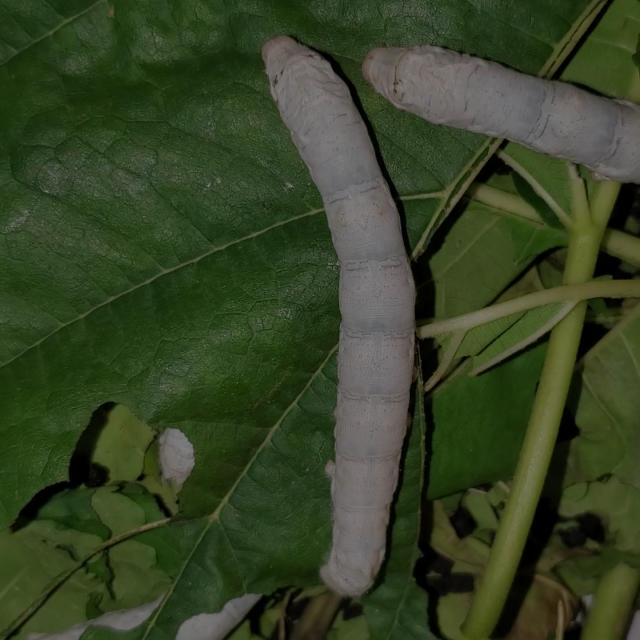Healthy: (253, 30, 442, 598)
